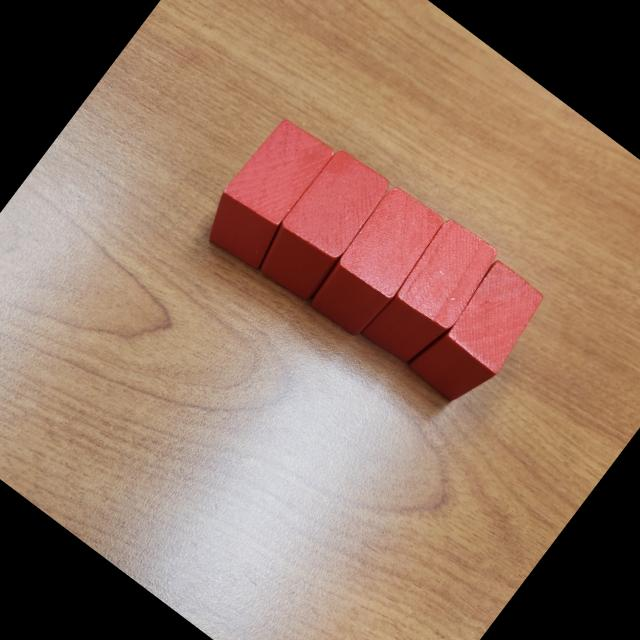red: (190, 106, 346, 276), (403, 250, 555, 415), (357, 213, 507, 378), (301, 180, 449, 342), (250, 144, 396, 306)
